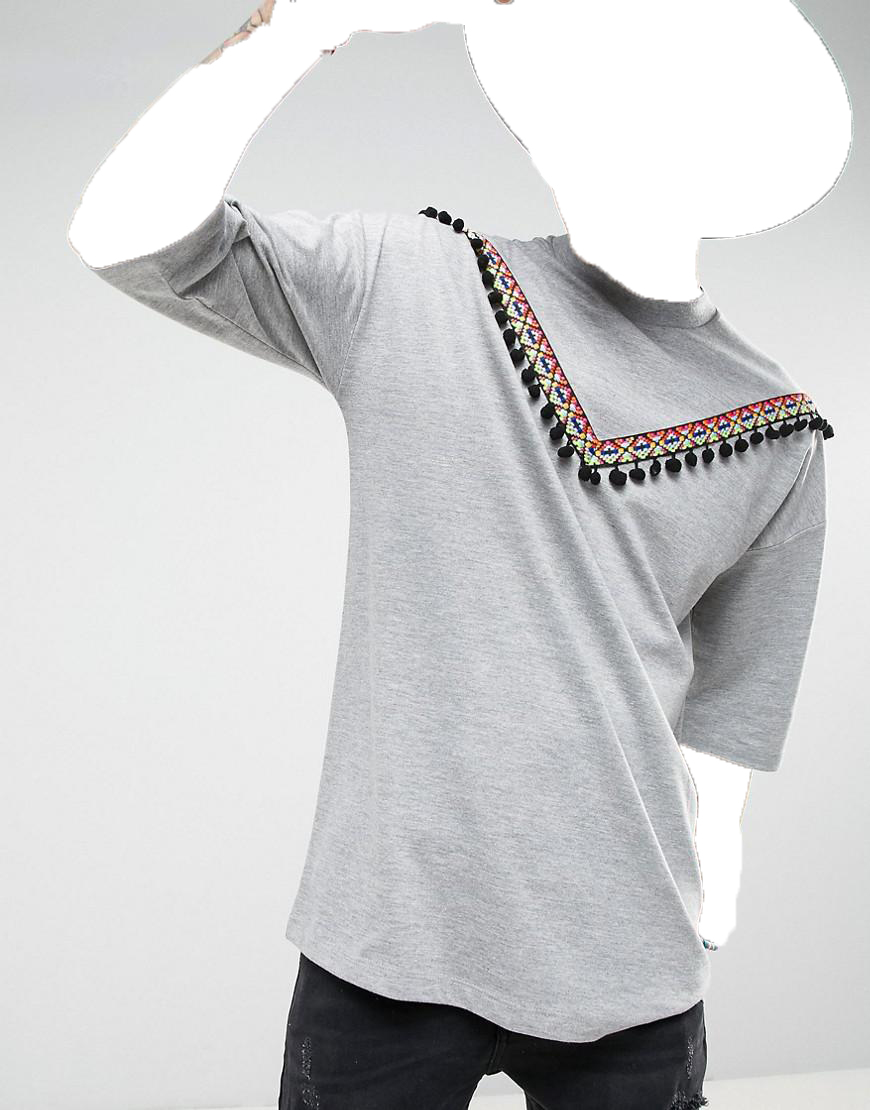teeshirt: (56, 203, 837, 1061)
